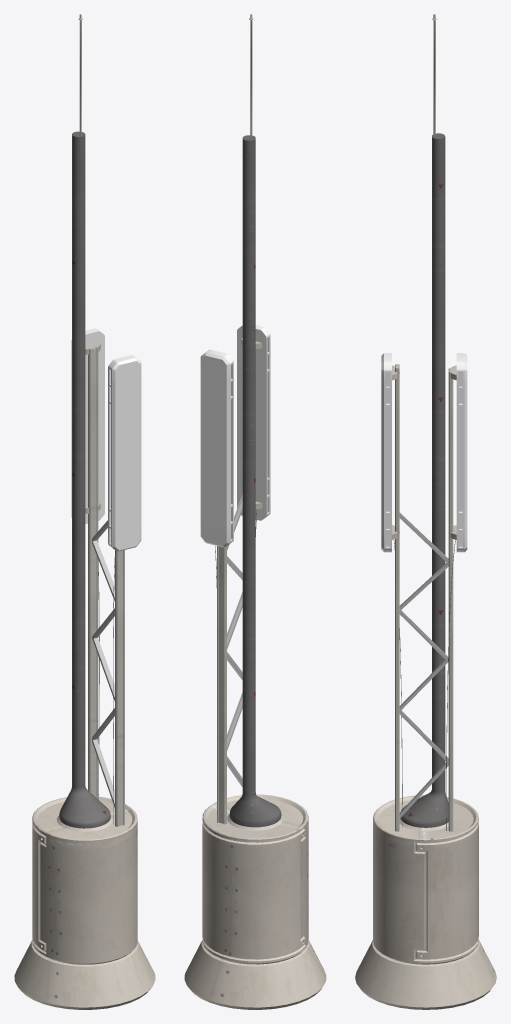
Rendered from KB3D_CBP_Antenna_C.fbx.
3 views of the same model, side by side, from view 1: azimuth 30°, elevation 25°; view 2: azimuth 150°, elevation 25°; view 3: azimuth 270°, elevation 25° (orthographic).
Parts seen in each view (by area): view 1: KB3D_CBP_Antenna_C_Main; view 2: KB3D_CBP_Antenna_C_Main; view 3: KB3D_CBP_Antenna_C_Main.
Boxes of the visible parts, x1,y1,x2,y2 form: KB3D_CBP_Antenna_C_Main: [14, 14, 155, 1009]; KB3D_CBP_Antenna_C_Main: [184, 14, 326, 1009]; KB3D_CBP_Antenna_C_Main: [355, 14, 496, 1009].
Size of the model in its own units: 181 by 1359 by 181.
